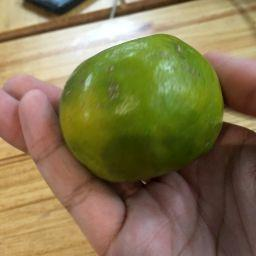Ripe: (59, 34, 222, 185)
